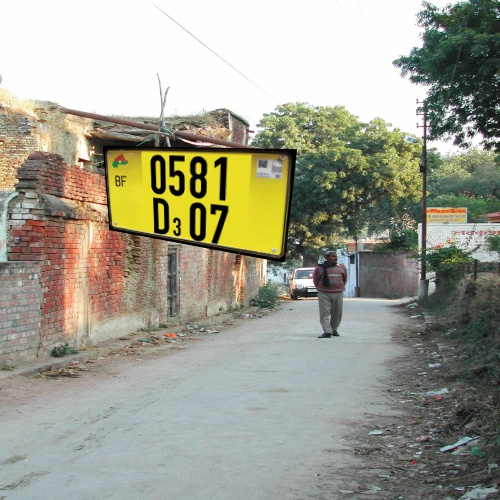plate: (86, 131, 309, 273)
